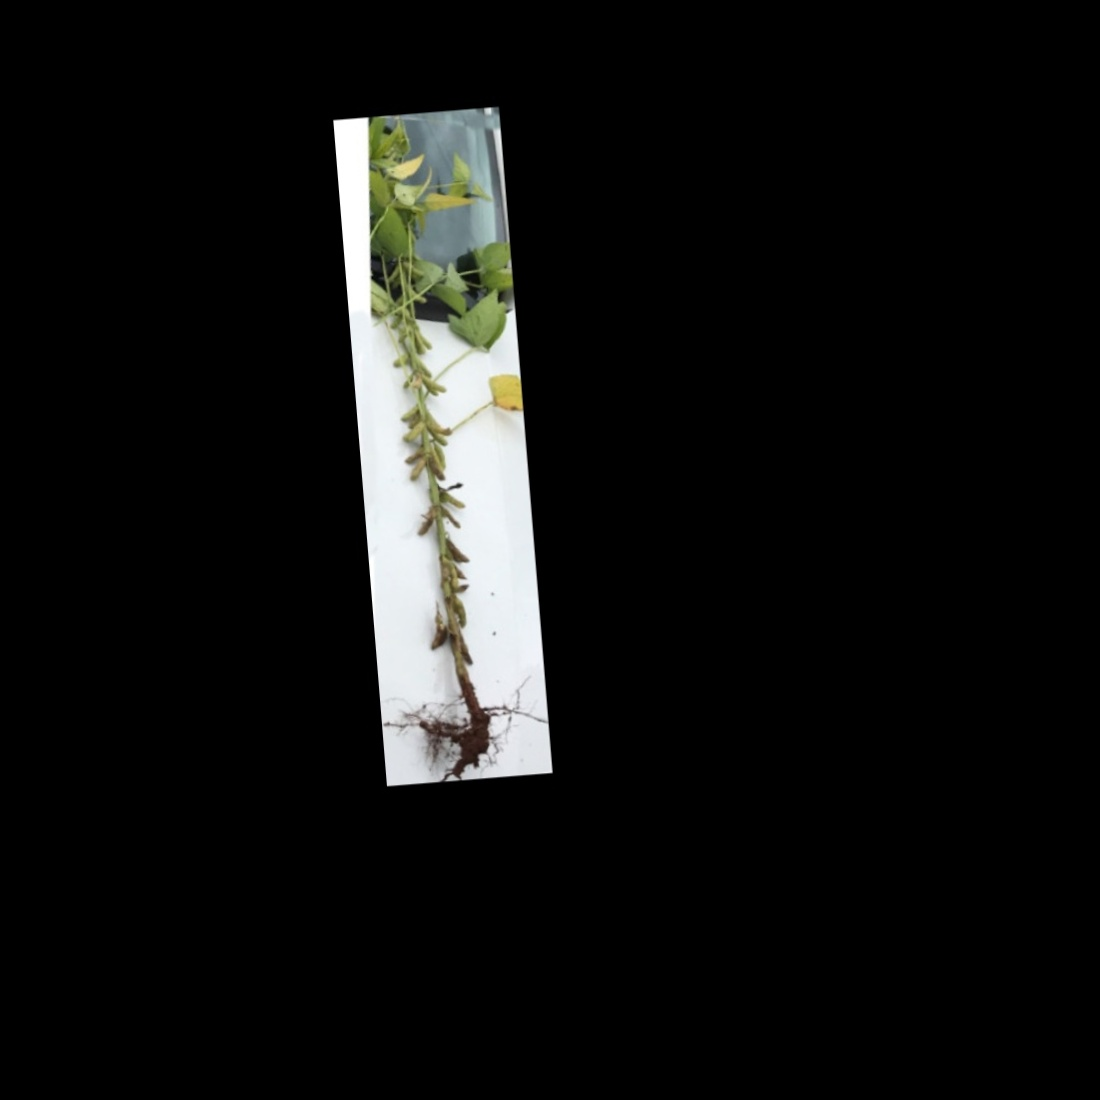pod: (402, 456, 429, 486), (418, 372, 448, 397), (425, 421, 449, 449), (406, 281, 430, 306), (397, 401, 424, 423), (401, 421, 427, 443), (389, 350, 413, 370)
soy: (345, 113, 542, 768)
